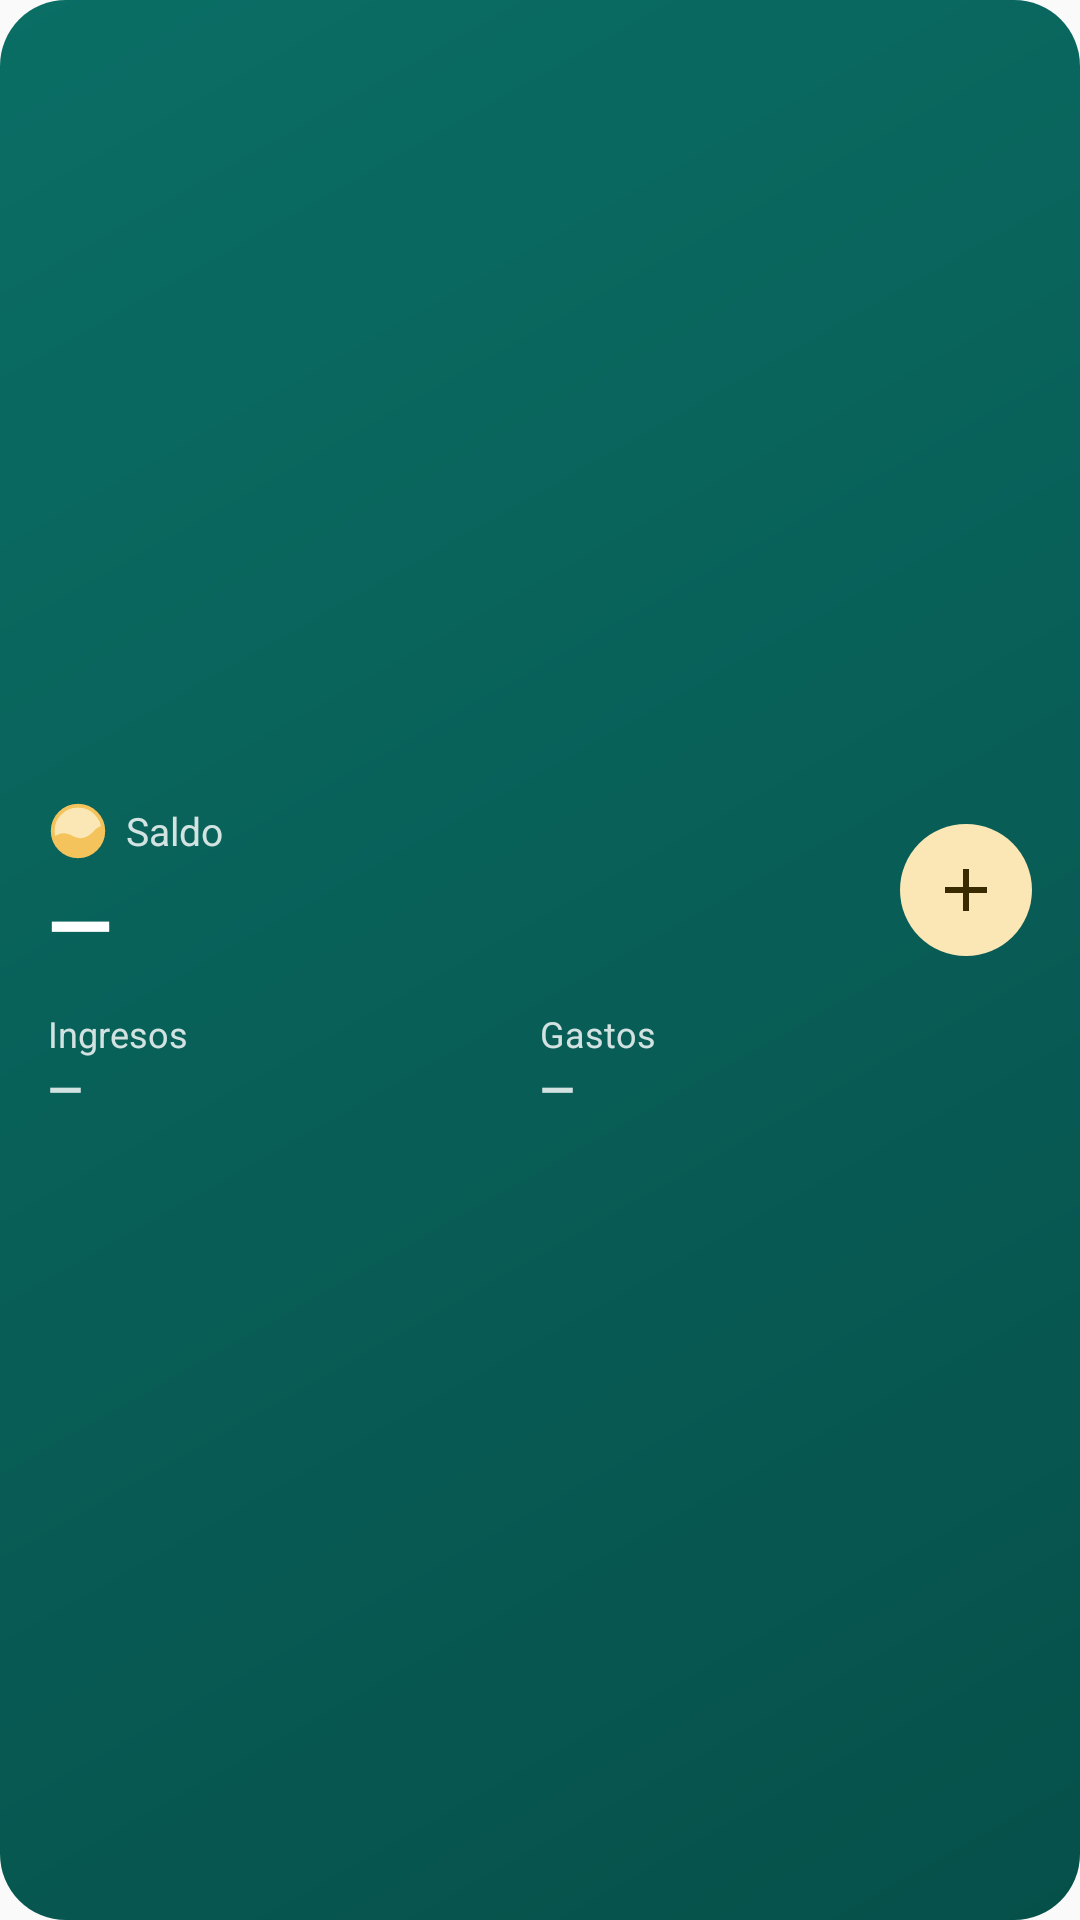

Named icons in this screenshot (1080w x 1920h) and their centers, point (x, y):
Agregar gasto: point (966, 890)
widget coin: point (78, 831)
